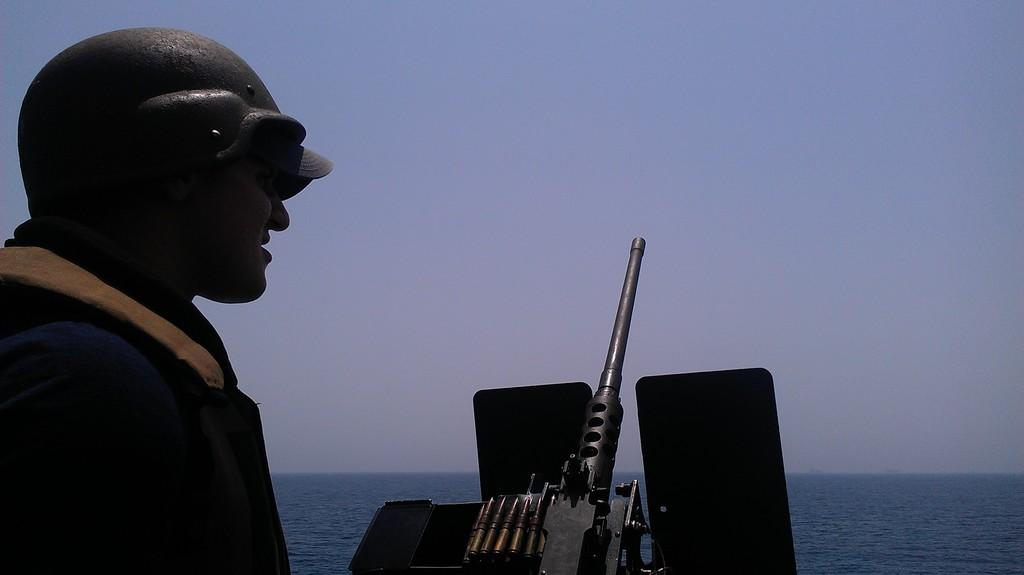non-violence: (1, 27, 333, 575)
weapon: (466, 200, 674, 575)
